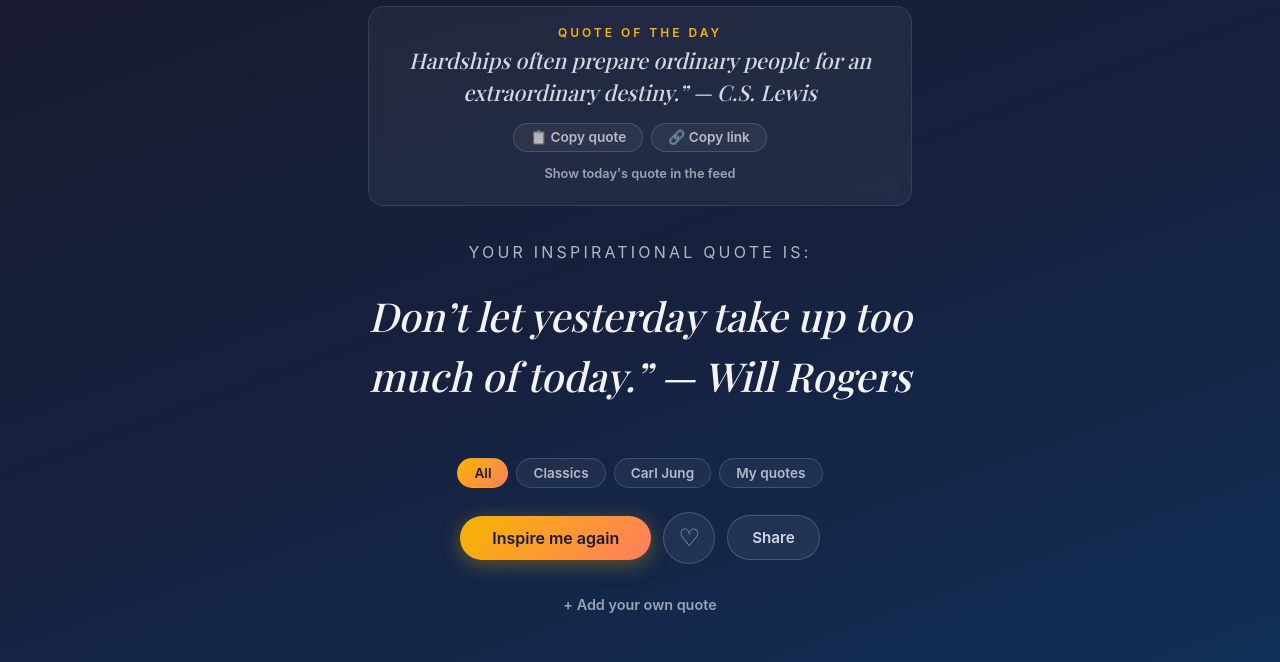
it: App › clears all favorites with the Clear all button
The image size is (1280, 662).
Click the button named "add quote to favorites": (689,538) [663, 512, 715, 564]
(page scrolled)
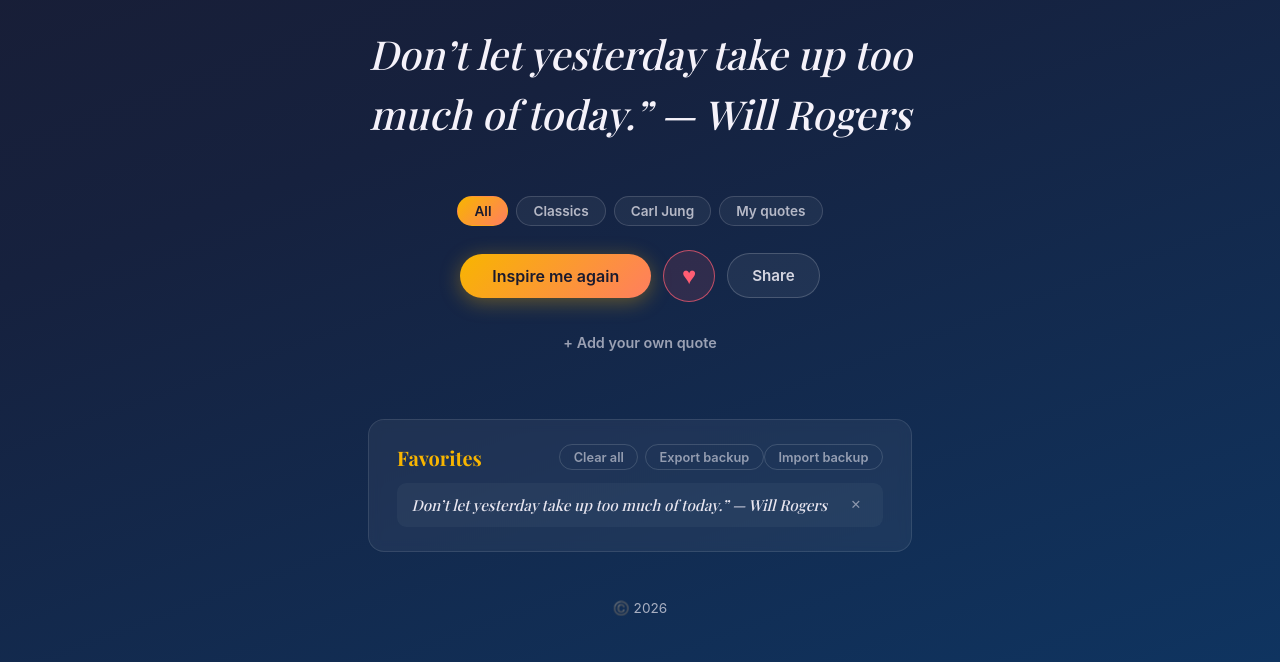
Expected: the number of list items is 1, [397, 482, 883, 527]
Click the button with aria-label "clear all favorite quotes": (599,457) [559, 444, 638, 470]
(page scrolled)
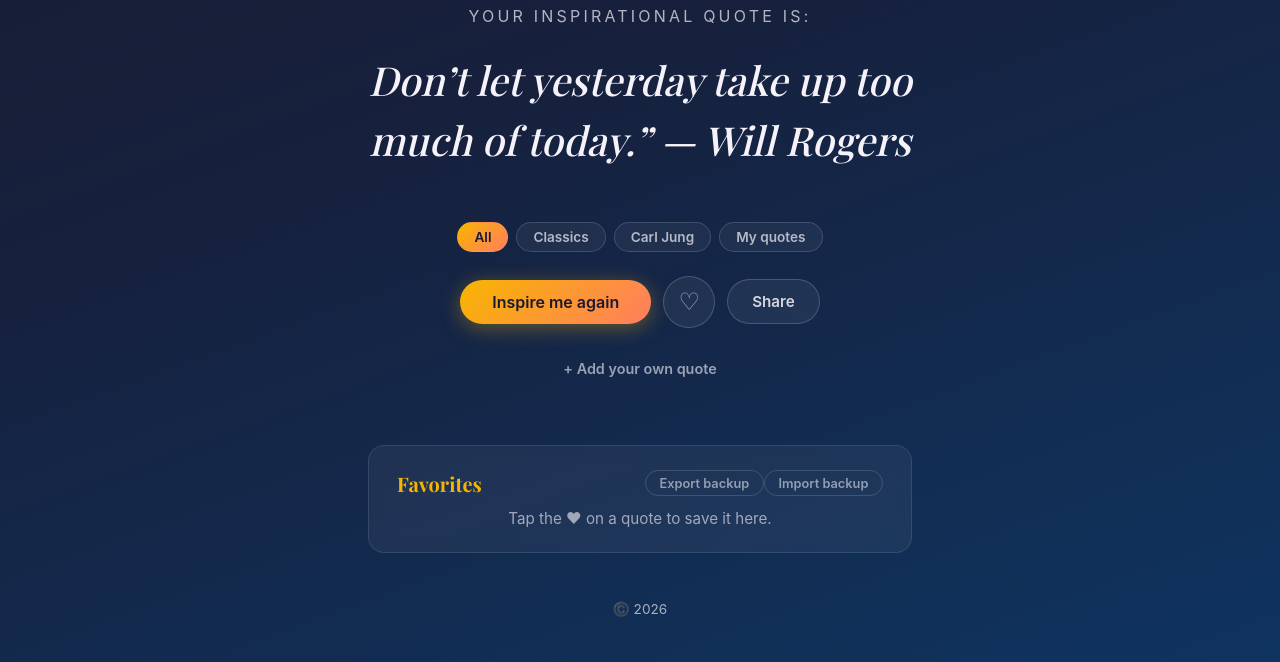
Expected: no list items are shown
Expected: the text "Tap the ♥ on a quote to save it here." is shown, [508, 508, 772, 528]
